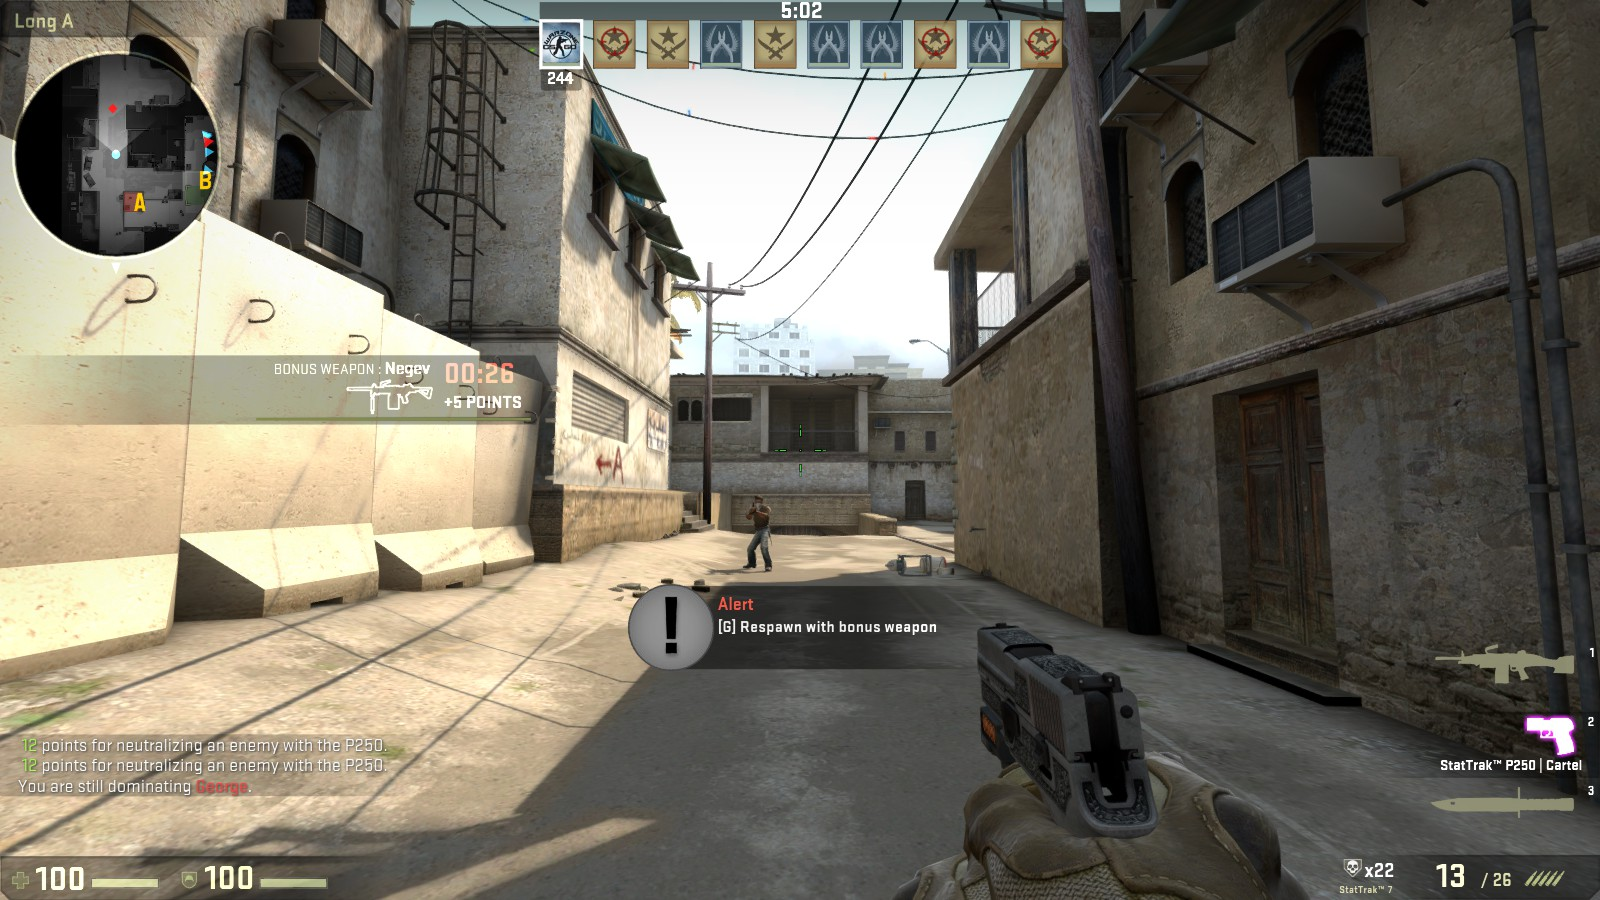t: (747, 495, 774, 573)
th: (752, 495, 764, 509)
